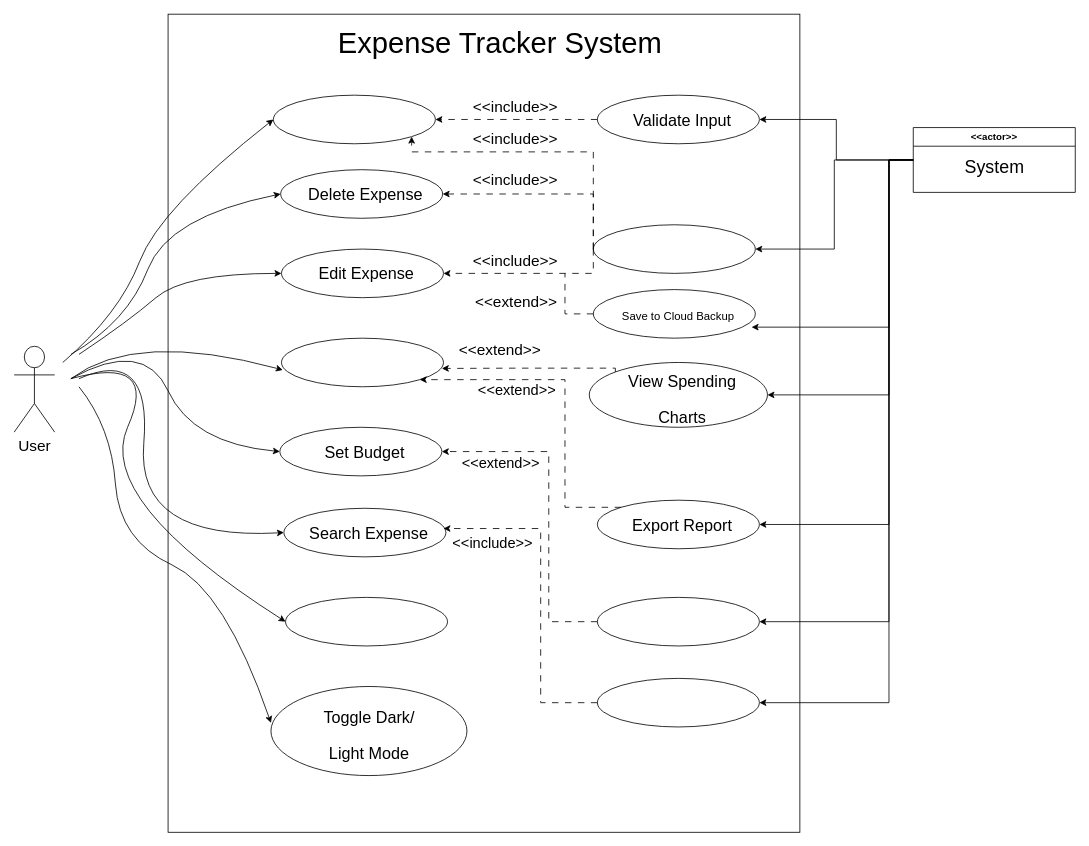
This 1089x846 diagram has some shape labels left out. The shapes that lost their labels are listed below. From the top down, each one's centre as x and y in pixels, then its label:
(x=354, y=119): Add Expense
(x=674, y=248): Save to Local Storage
(x=362, y=362): View Expense
(x=366, y=621): Add Category
(x=678, y=621): View Progress
(x=678, y=702): Filter Expense
